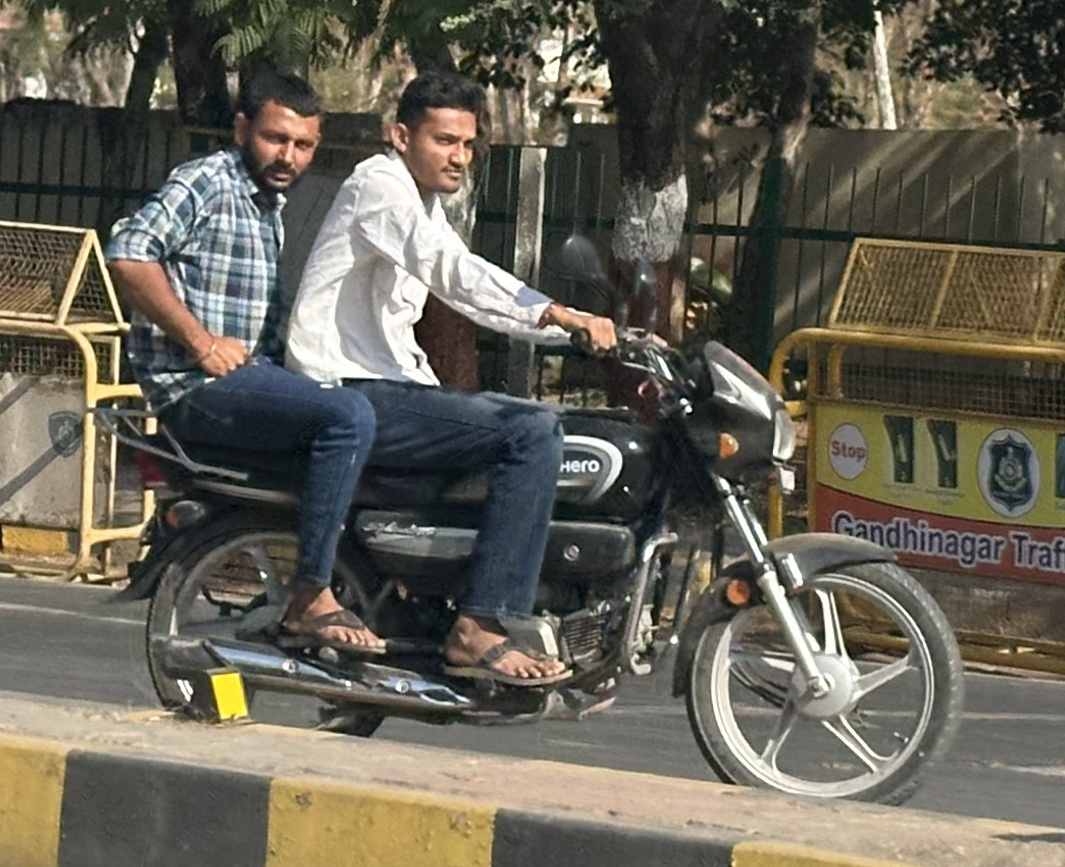BikeWithRider: (85, 58, 979, 806)
NoHelmet: (227, 65, 329, 195), (386, 70, 482, 193)
